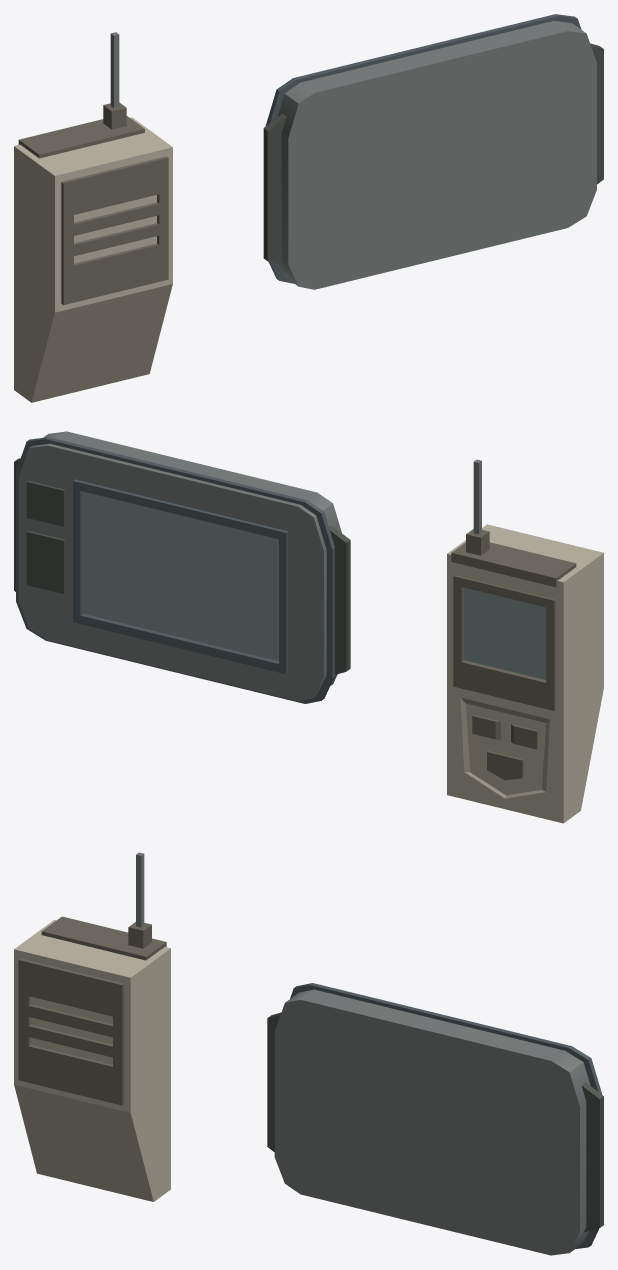
The model's file is tools_models.fbx.
The picture shows the model from 3 angles, top to bottom: view 1: azimuth 30°, elevation 25°; view 2: azimuth 150°, elevation 25°; view 3: azimuth 330°, elevation 25°; orthographic projection.
Visible parts, largest first — view 1: tool_movement, tool_scanner; view 2: tool_movement, tool_scanner; view 3: tool_movement, tool_scanner.
Part boxes in pixels (box(x1,y1,x2,y2)): tool_movement: box(263, 14, 603, 289); tool_scanner: box(14, 32, 172, 402); tool_movement: box(14, 431, 350, 703); tool_scanner: box(447, 459, 603, 823); tool_movement: box(267, 983, 603, 1255); tool_scanner: box(14, 852, 170, 1201).
Bounding box in the file's own units: 141 × 80.12 × 19.12.
